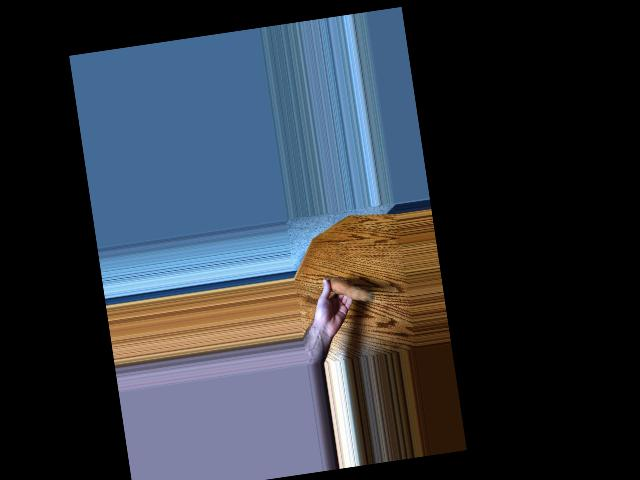sweet_potato: (320, 270, 376, 312)
